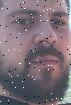without_mask: (2, 1, 71, 105)
